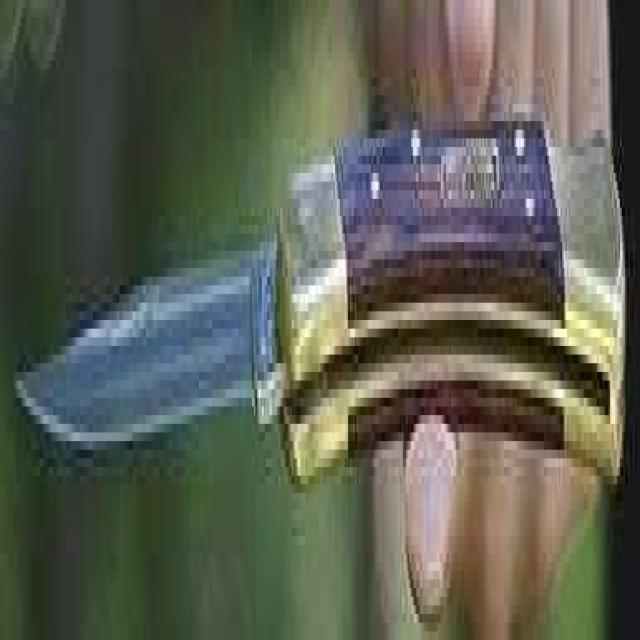Knife: (12, 94, 629, 505)
